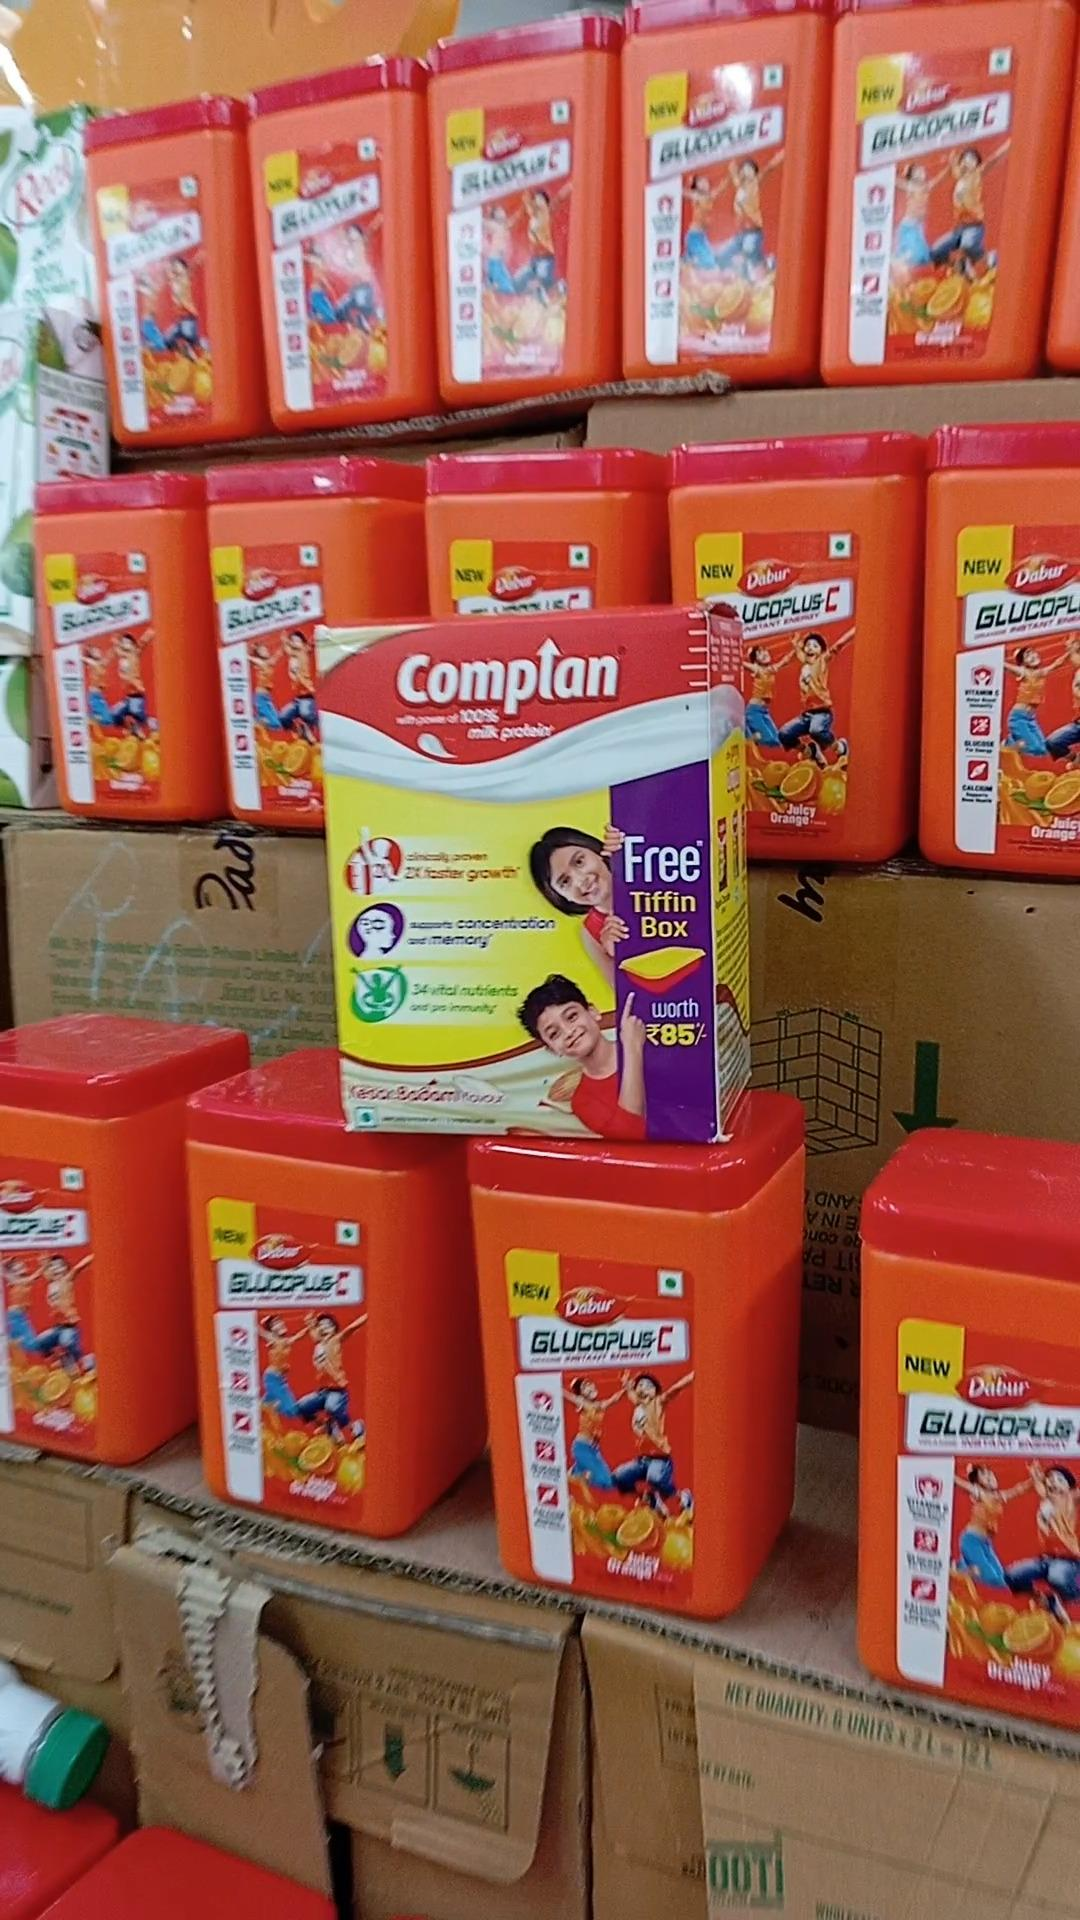COMPLAN_KESAR_BADAM_500_GMS_PACK: (322, 611, 711, 1141)
